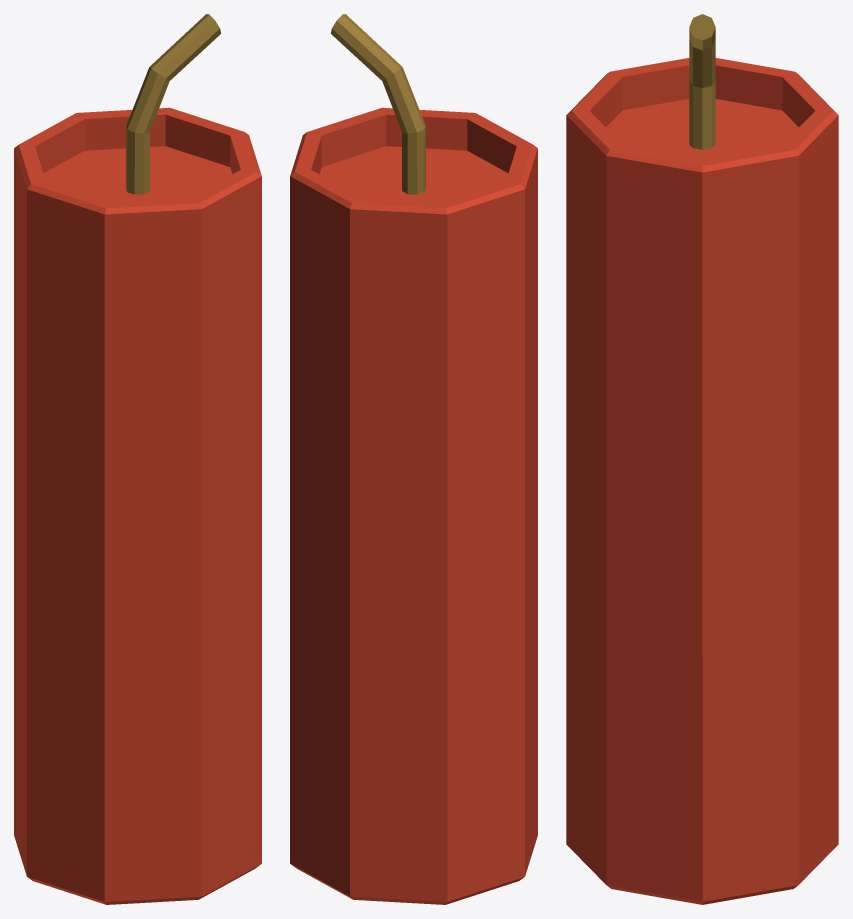
File: Dynamite.fbx
The picture shows the model from 3 angles, left to right: view 1: azimuth 30°, elevation 25°; view 2: azimuth 150°, elevation 25°; view 3: azimuth 270°, elevation 25°; orthographic projection. The views are drawn at different scales.
Visible parts, largest first — view 1: Circle, Plane; view 2: Circle, Plane; view 3: Circle, Plane.
Part boxes in pixels (x1=…): Circle: x1=14, y1=107, x2=261, y2=904; Plane: x1=126, y1=14, x2=221, y2=194; Circle: x1=290, y1=107, x2=537, y2=904; Plane: x1=330, y1=14, x2=425, y2=194; Circle: x1=566, y1=58, x2=838, y2=904; Plane: x1=689, y1=14, x2=715, y2=149.
Bounding box in the file's own units: 0.126 × 0.126 × 0.4464.
